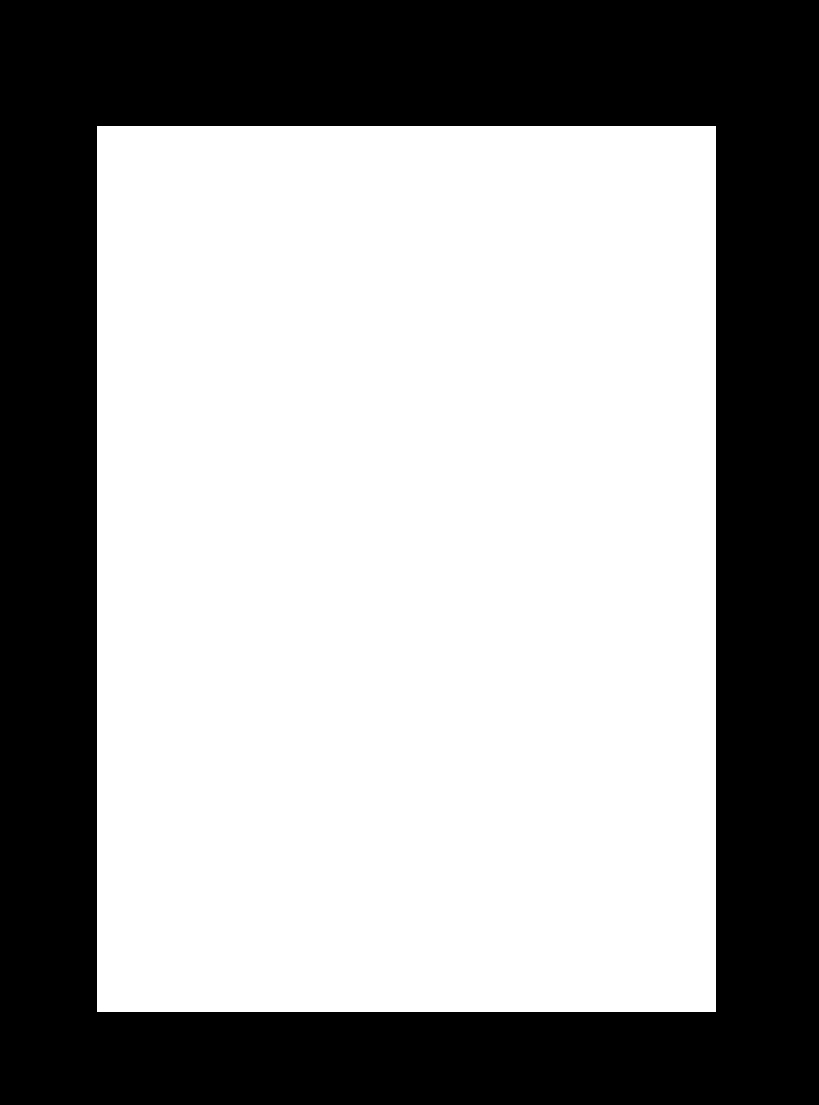table: (97, 126, 715, 1011)
